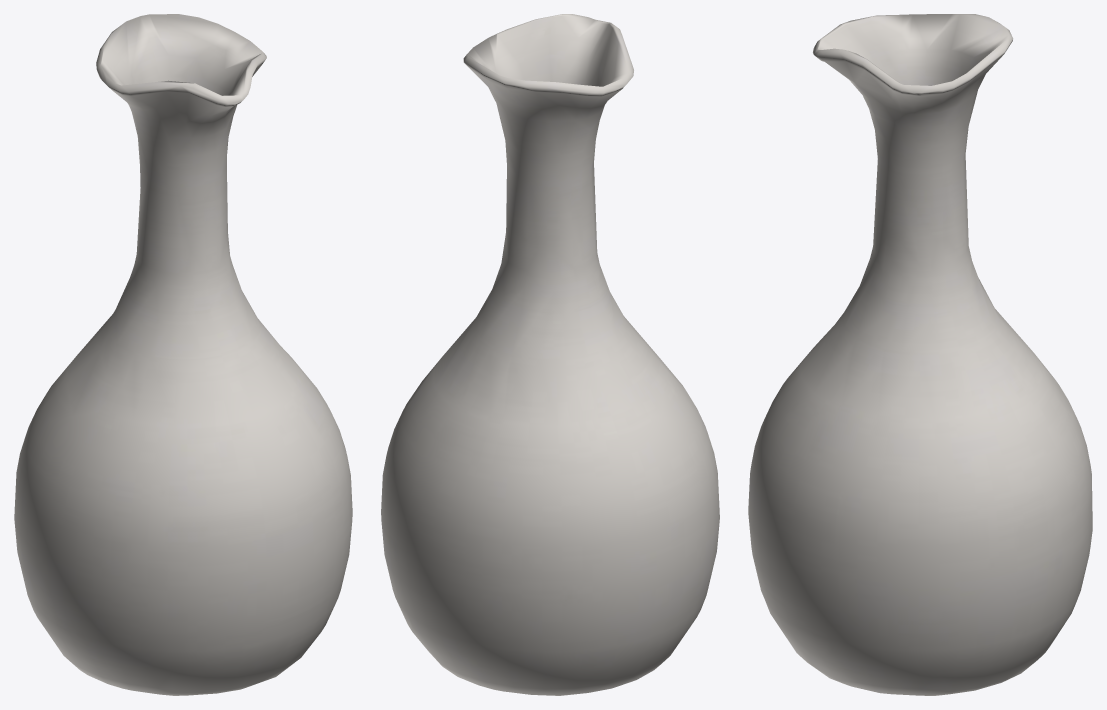
The model's file is ceramic_vase_01.glb.
The picture shows the model from 3 angles, left to right: view 1: azimuth 30°, elevation 25°; view 2: azimuth 150°, elevation 25°; view 3: azimuth 270°, elevation 25°; orthographic projection.
Visible parts, largest first — view 1: ceramic_vase_01; view 2: ceramic_vase_01; view 3: ceramic_vase_01.
Part boxes in pixels (x1,y1,x2,y2): ceramic_vase_01: (14,14,352,695); ceramic_vase_01: (381,14,719,695); ceramic_vase_01: (748,14,1092,695).
Size of the model in its own units: 0.2037 by 0.4002 by 0.2031.
Materials: 1 (1 with a texture image).
